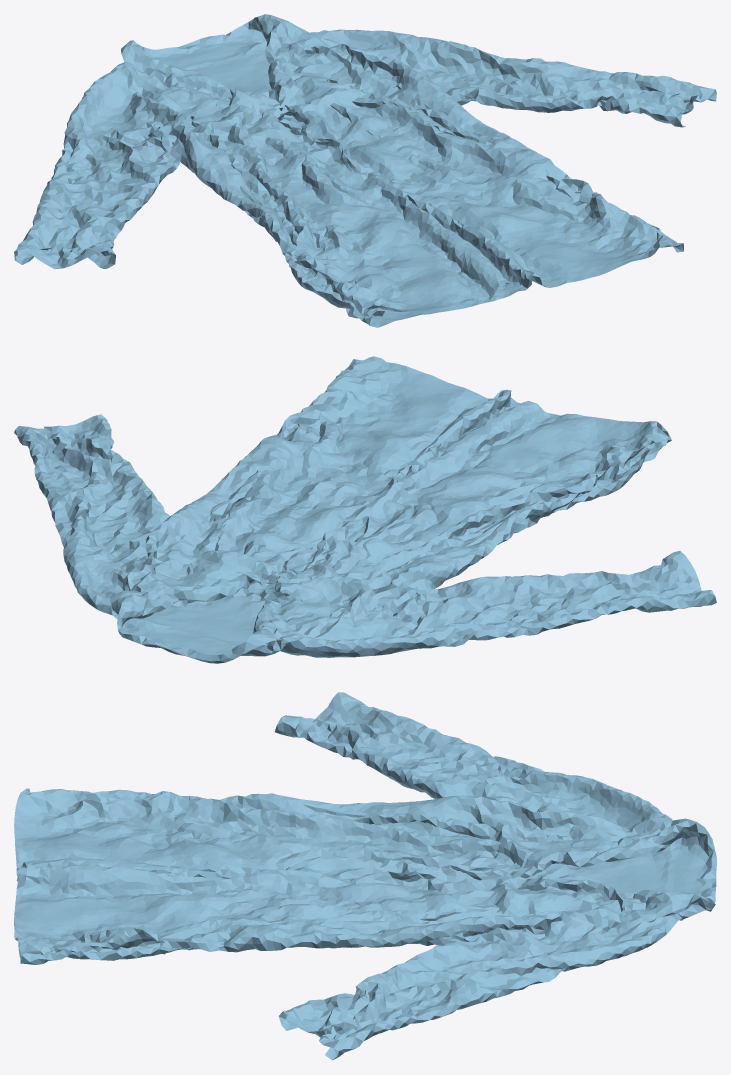
Rendered from frame_00.glb.
3 views of the same model, one above another, from view 1: azimuth 30°, elevation 25°; view 2: azimuth 150°, elevation 25°; view 3: azimuth 270°, elevation 25° (orthographic). The views are drawn at different scales.
Parts seen in each view (by area): view 1: frame_00.obj; view 2: frame_00.obj; view 3: frame_00.obj.
Boxes of the visible parts, <box> form: frame_00.obj: <box>14,14,716,327</box>; frame_00.obj: <box>14,356,716,663</box>; frame_00.obj: <box>14,692,716,1060</box>.
Bounding box in the file's own units: 1.99 × 0.0854 × 1.67.
